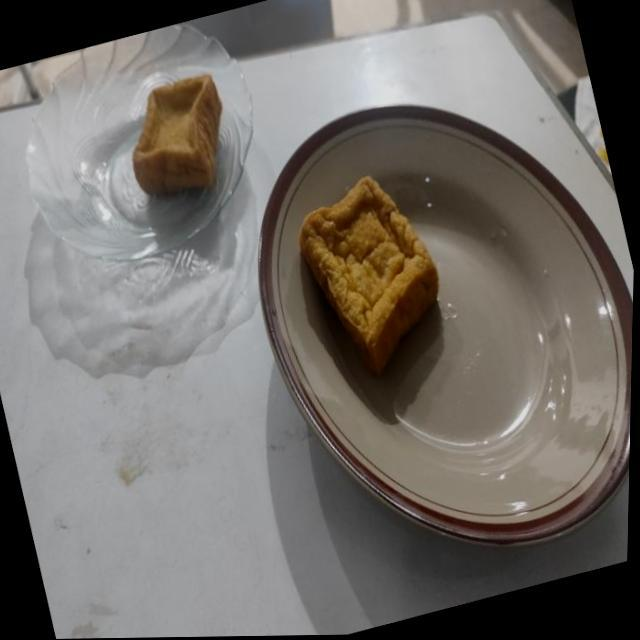tahu_goreng: (299, 175, 438, 374), (132, 74, 222, 194)
